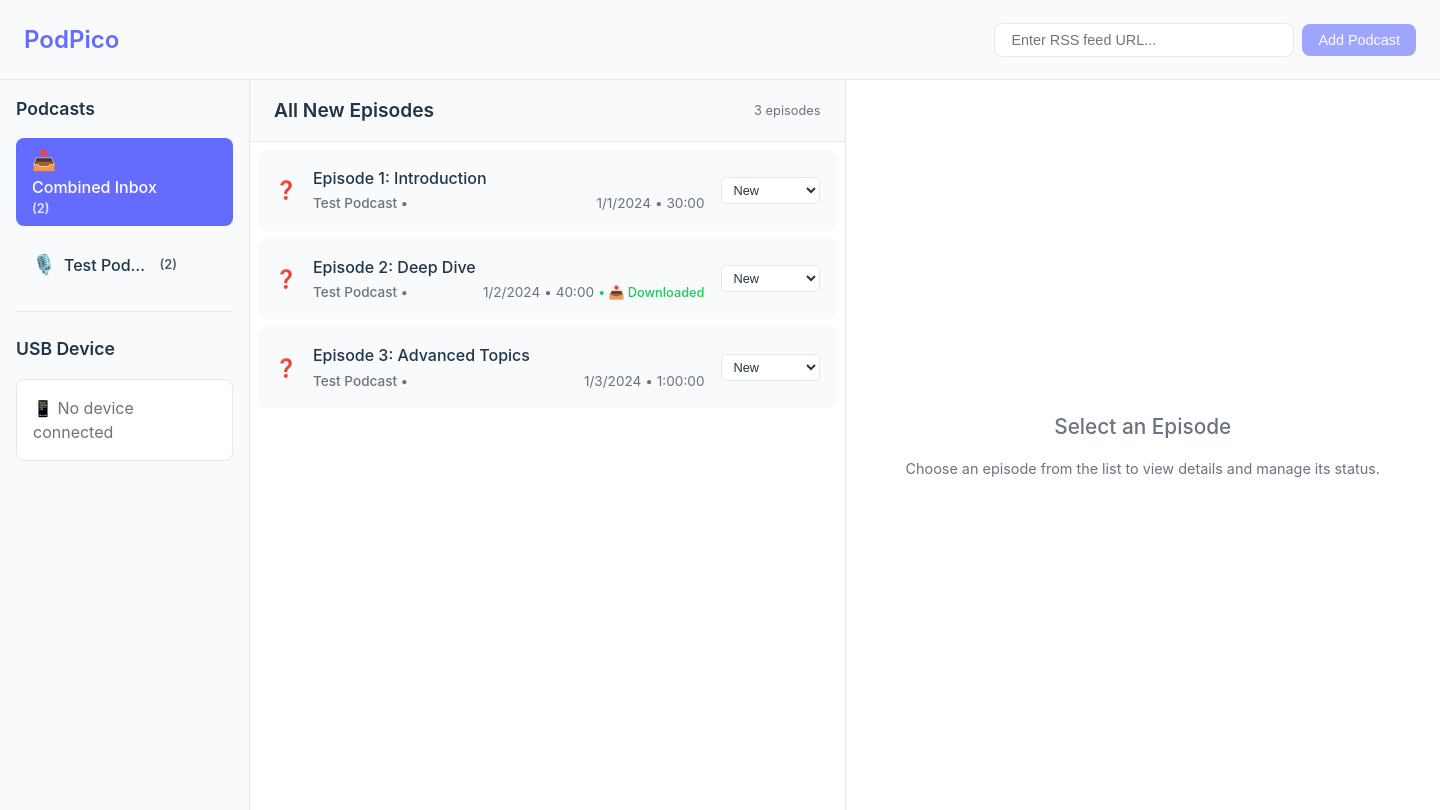
User Story #3: Download Episodes - End-to-End Integration Tests › Error Handling Integration › should handle download errors from backend gracefully
Expected: the heading "PodPico" is shown, 24,22 -> 119,58
Click the text "Test Podcast".
click(108, 265)  # box 64,253 -> 152,277
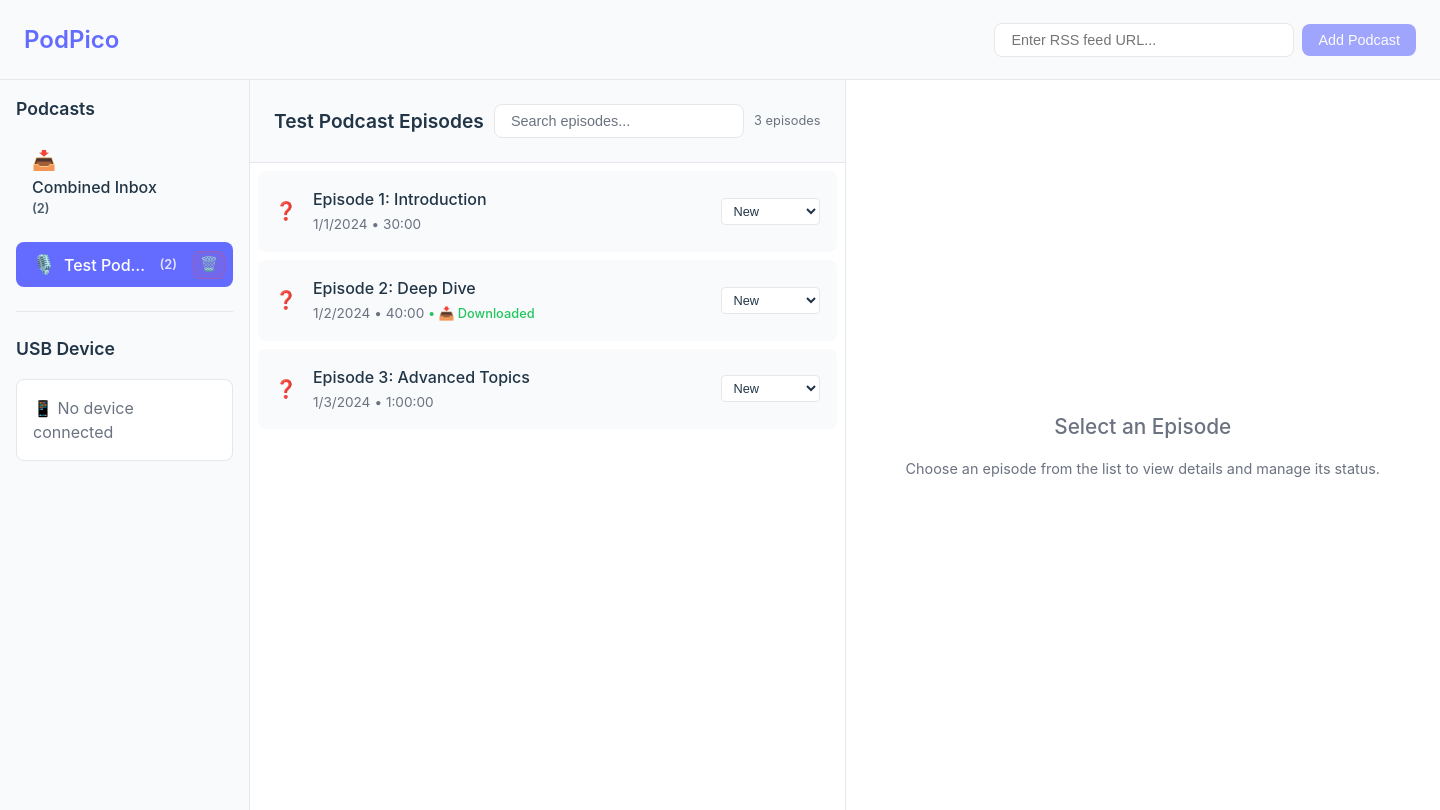
Click the heading "Episode 1: Introduction".
click(400, 199)  # box 313,189 -> 487,209
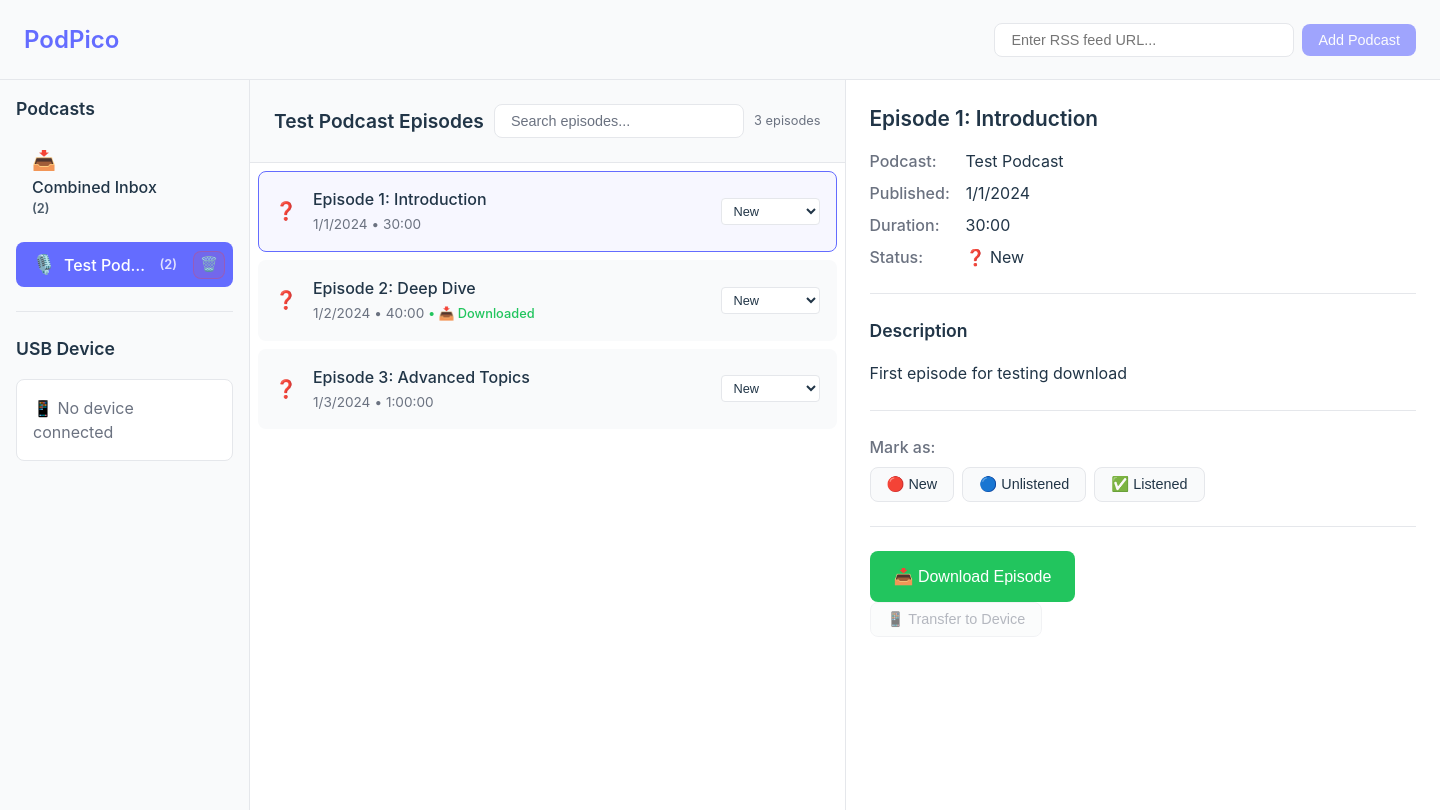
Click the button "📥 Download Episode".
click(972, 577)  # box 870,551 -> 1075,602
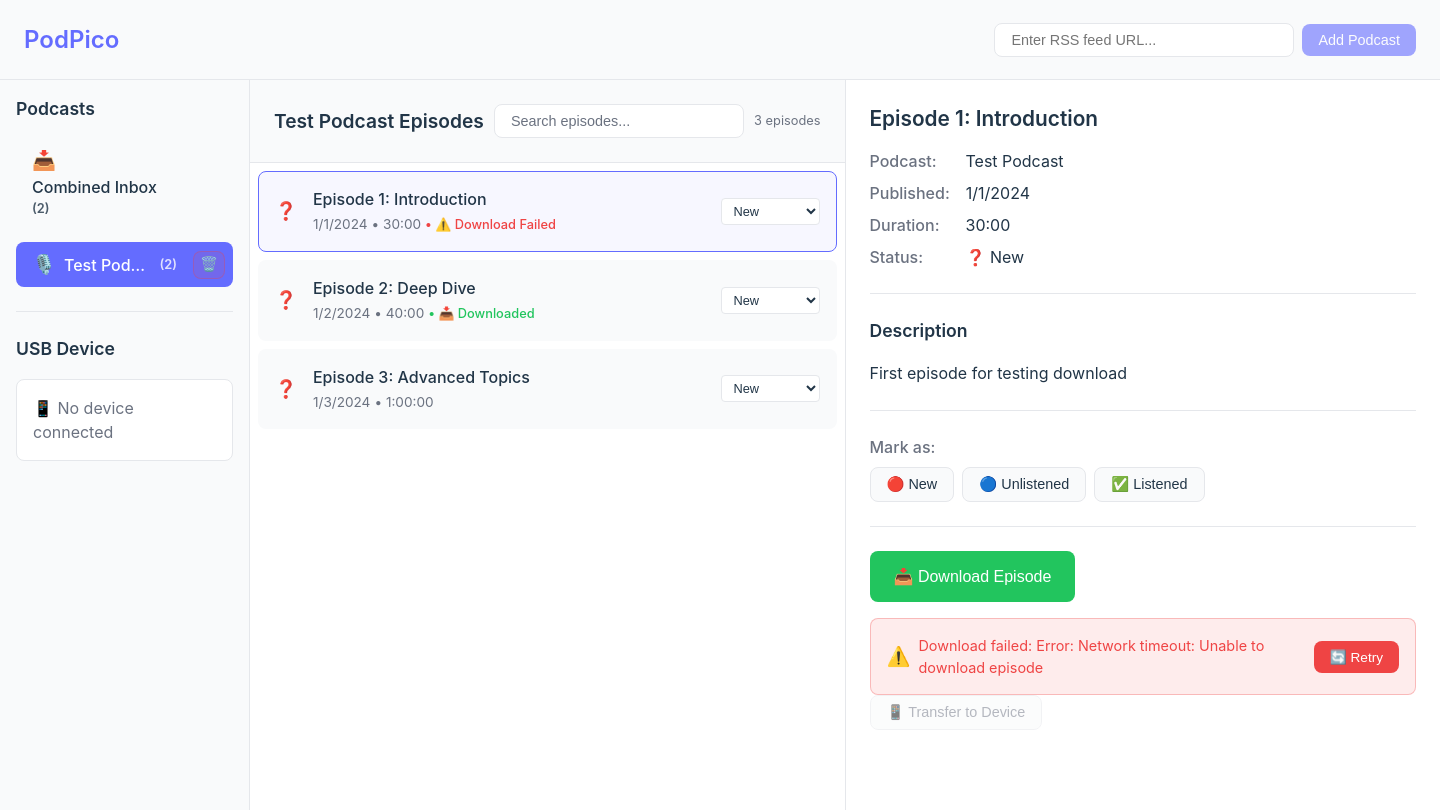
Expected: the text "Download failed" is shown, 918,637 -> 1264,676
Expected: the button with test id "download-retry-button" is shown, 1314,641 -> 1399,673
